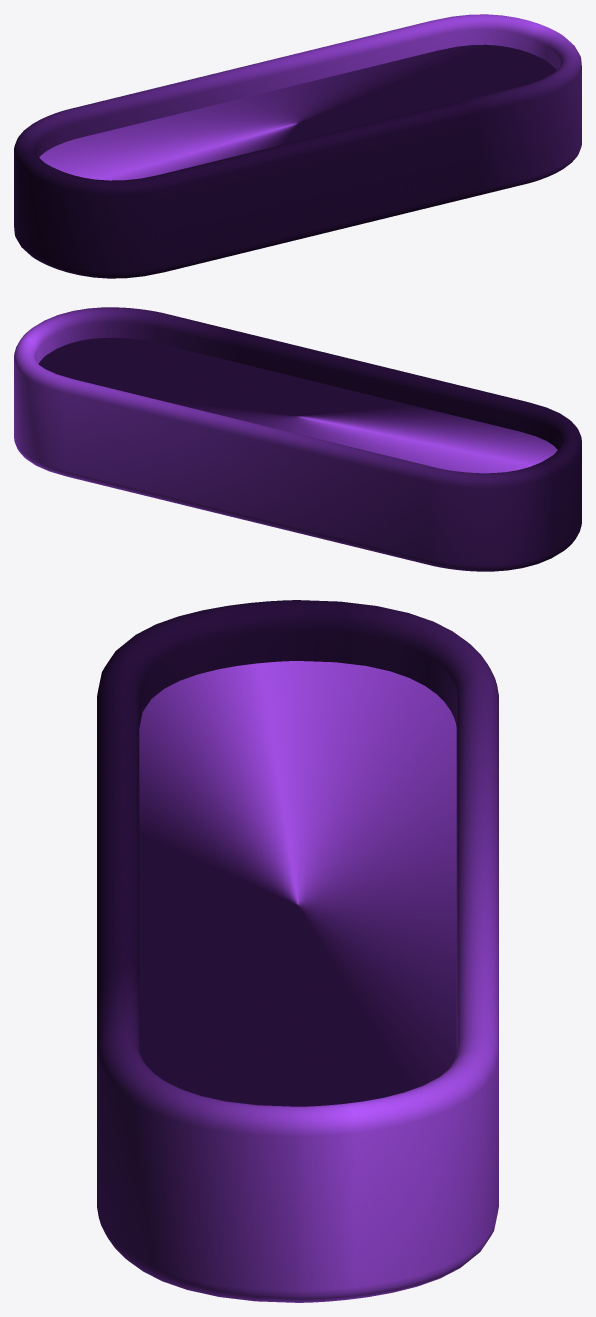
The model's file is Paddle-21.dae.
3 views of the same model, one above another, from view 1: azimuth 30°, elevation 25°; view 2: azimuth 150°, elevation 25°; view 3: azimuth 270°, elevation 25° (orthographic). The views are drawn at different scales.
Parts seen in each view (by area): view 1: Paddle; view 2: Paddle; view 3: Paddle.
Boxes of the visible parts, left/top/right/bottom form: Paddle: left=14, top=14, right=581, bottom=278; Paddle: left=14, top=307, right=581, bottom=571; Paddle: left=97, top=600, right=498, bottom=1302.
Size of the model in its own units: 0.2922 by 0.05 by 0.0946.
Materials: 2 (2 with a texture image).
